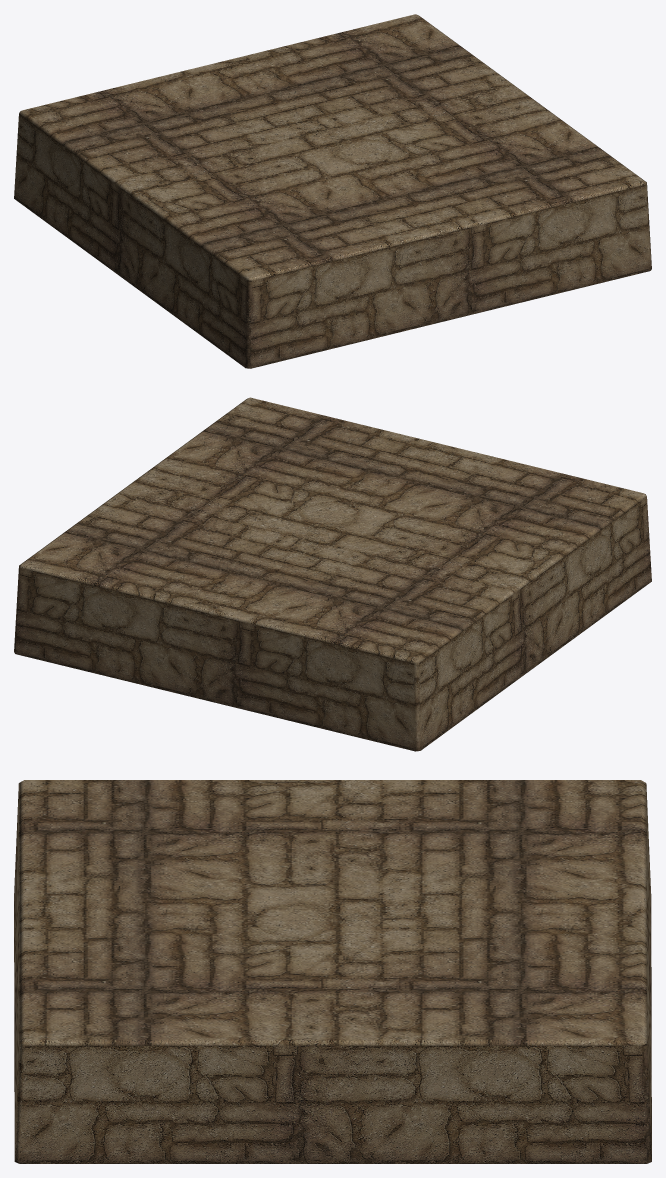
The model's file is Stone_Base_6X6_01.fbx.
3 renders of one model, top to bottom at view 1: azimuth 30°, elevation 25°; view 2: azimuth 150°, elevation 25°; view 3: azimuth 270°, elevation 25°, orthographic. The views are drawn at different scales.
Visible parts, largest first — view 1: Stone_Base_6X6_01; view 2: Stone_Base_6X6_01; view 3: Stone_Base_6X6_01.
Part boxes in pixels (x1,y1,x2,y2): Stone_Base_6X6_01: (14, 14, 651, 368); Stone_Base_6X6_01: (14, 397, 651, 751); Stone_Base_6X6_01: (14, 780, 651, 1163).
Size of the model in its own units: 6.34 by 1.31 by 6.36.
